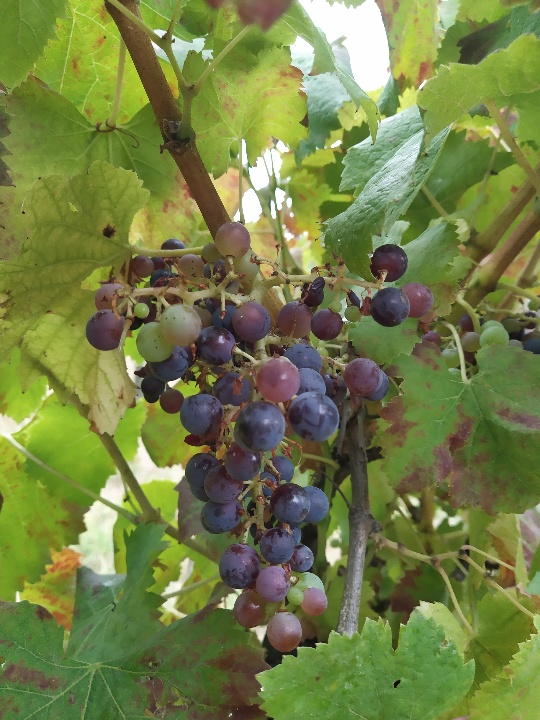grape: (88, 217, 429, 655)
